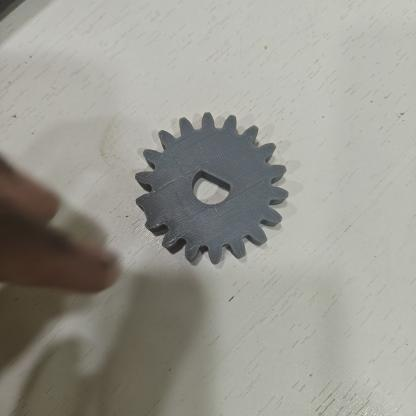defect: (187, 160, 242, 206), (132, 196, 176, 239)
gear: (136, 112, 288, 264)
